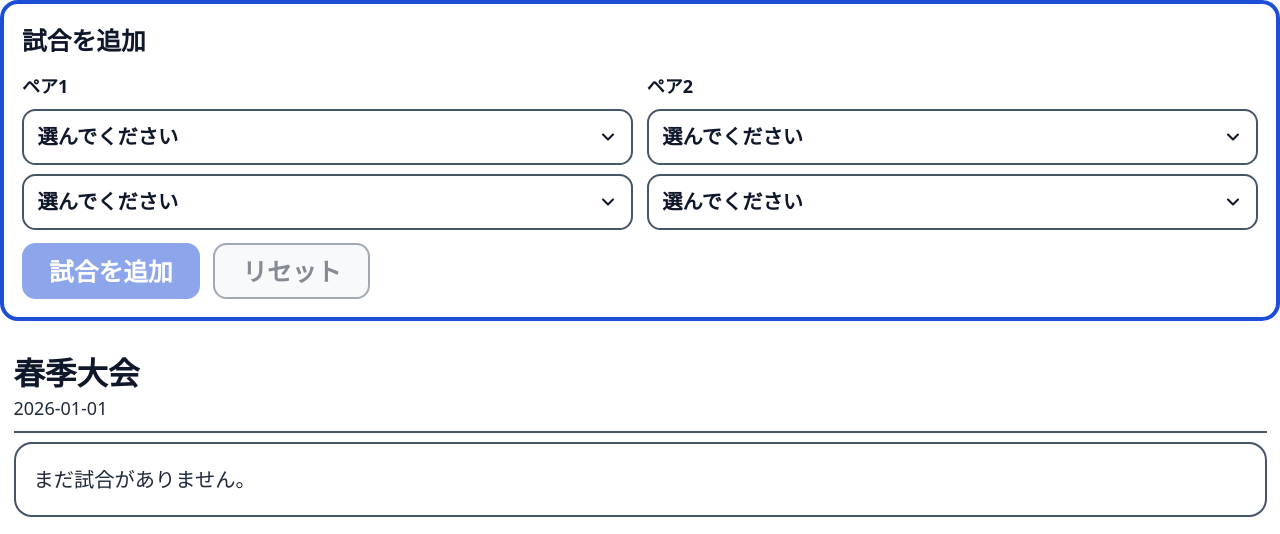
Test: DoublesList › 選択後に「リセット」を押すと Select が未選択に戻る
This screenshot has width=1280, height=534.
Check: the button "リセット" is disabled, box [213,243,370,299]
Click the button with aria-label "ペア1 選手1" at point(108, 136), box [22,109,633,165]
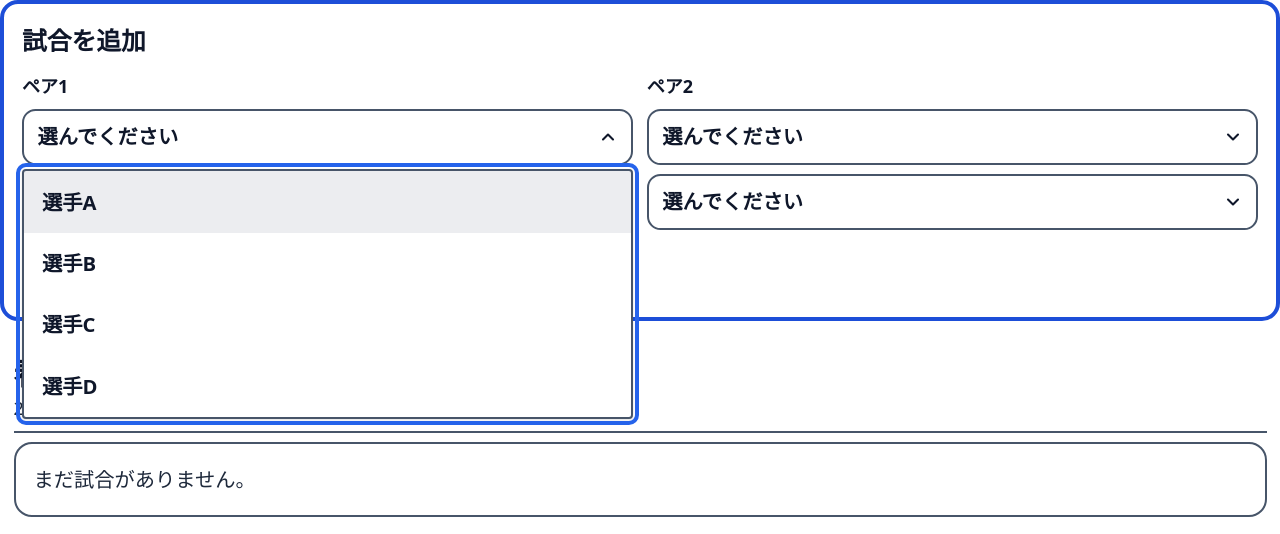
Click the option "選手A" at point(69, 202), box [24,171,631,232]
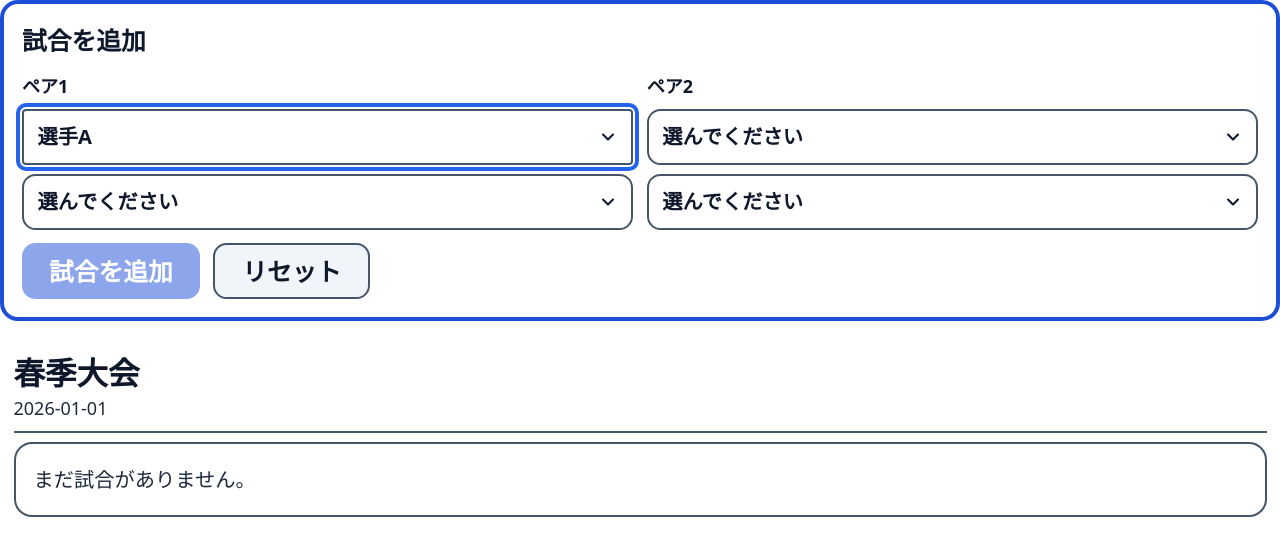
Click the button with aria-label "ペア2 選手1" at point(733, 136), box [647,109,1258,165]
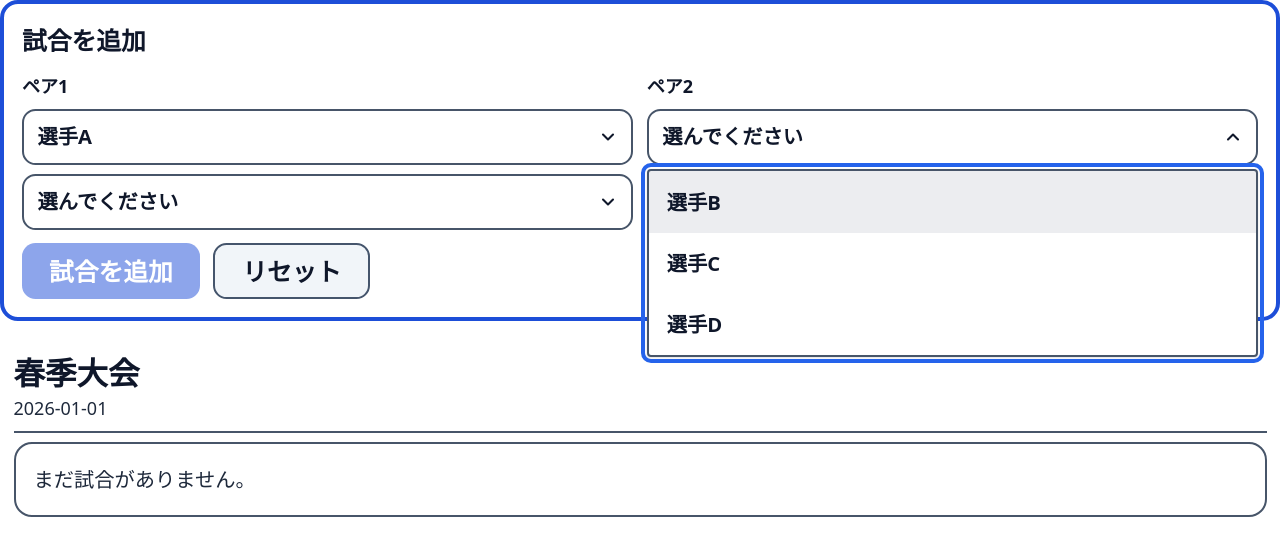
Click the option "選手C" at point(693, 263), box [649,232,1256,294]
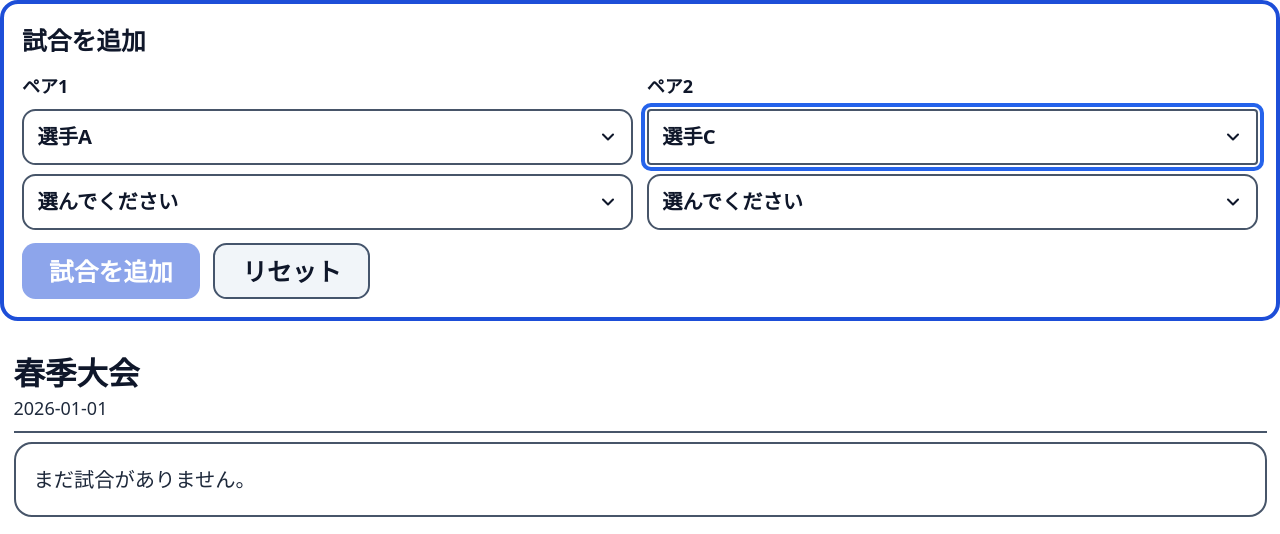
Check: the button with aria-label "ペア1 選手1" reads "選手A", box [22,109,633,165]
Check: the button "リセット" is enabled
Click the button "リセット" at point(292, 271), box [213,243,370,299]
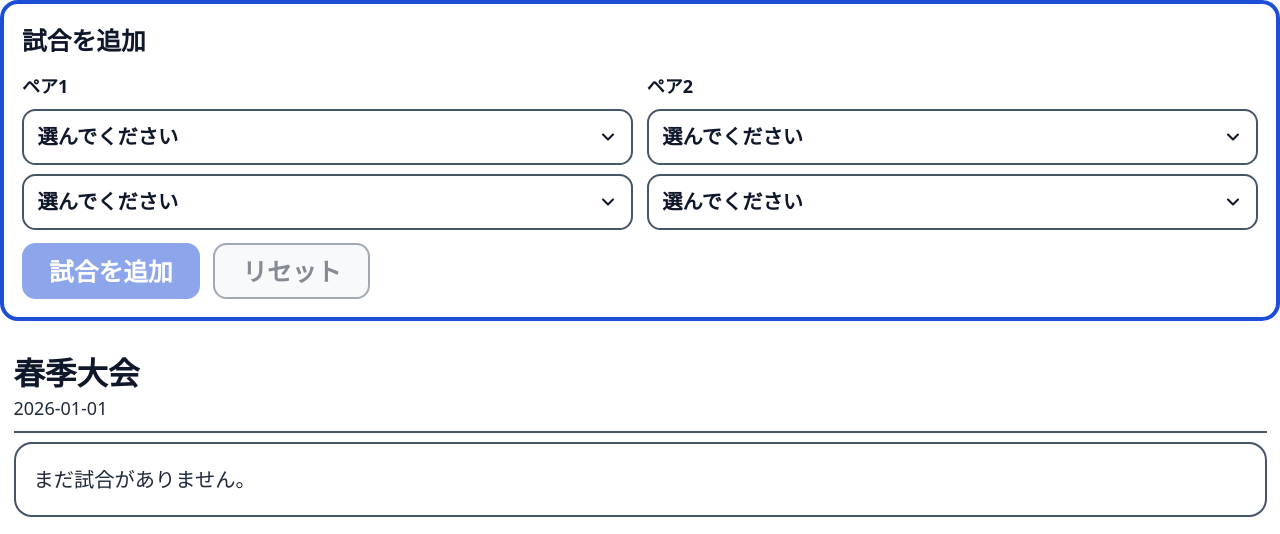
Check: the button "試合を追加" is disabled, box [22,243,200,299]
Check: the button with aria-label "ペア1 選手1" reads "選んでください", box [22,109,633,165]
Check: the button with aria-label "ペア2 選手1" reads "選んでください", box [647,109,1258,165]
